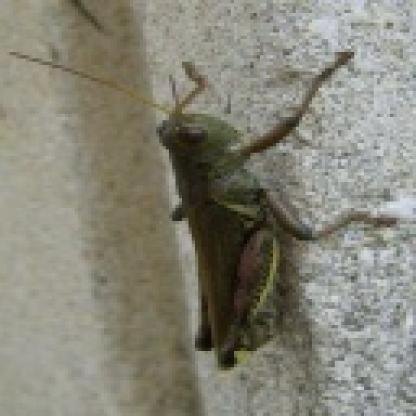grasshopper: (121, 51, 389, 374)
